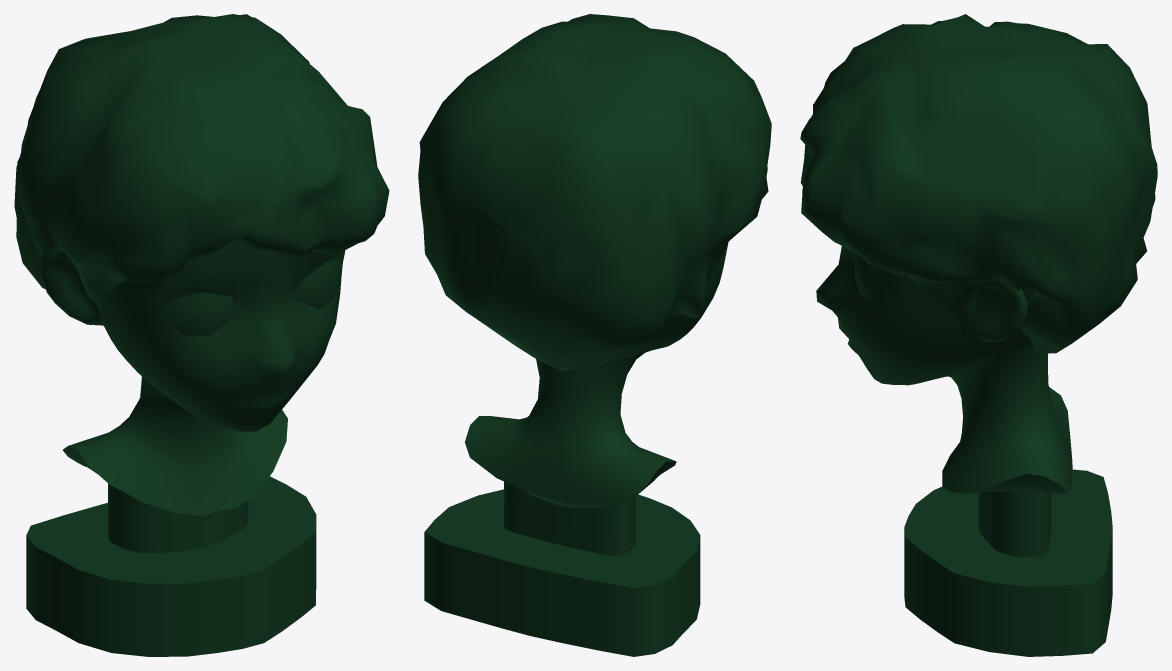
The model's file is statue_low_2.FBX.
The picture shows the model from 3 angles, left to right: view 1: azimuth 30°, elevation 25°; view 2: azimuth 150°, elevation 25°; view 3: azimuth 270°, elevation 25°; orthographic projection. The views are drawn at different scales.
Parts seen in each view (by area): view 1: Plane072; view 2: Plane072; view 3: Plane072.
Part boxes in pixels (box(x1,y1,x2,y2)): Plane072: box(14, 14, 389, 656); Plane072: box(418, 14, 771, 656); Plane072: box(800, 14, 1157, 656).
Size of the model in its own units: 89.88 by 166 by 96.76.
